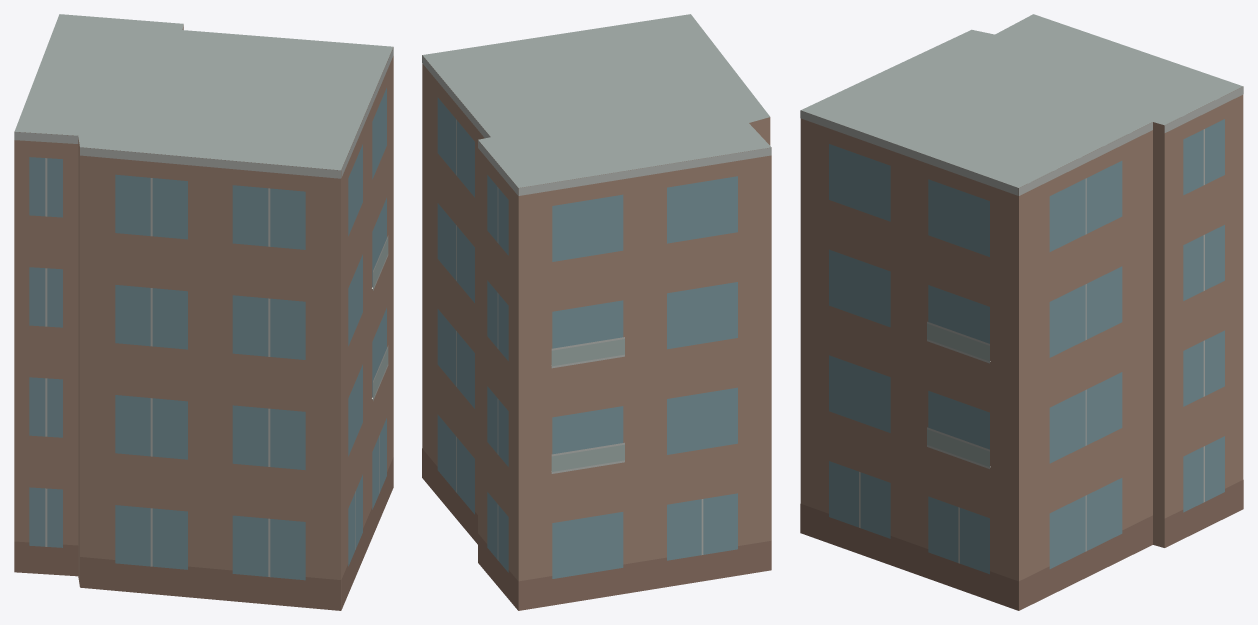
Rendered from survey-upis-32500005.glb.
The picture shows the model from 3 angles, left to right: view 1: azimuth 30°, elevation 25°; view 2: azimuth 150°, elevation 25°; view 3: azimuth 270°, elevation 25°; orthographic projection. The views are drawn at different scales.
Parts seen in each view (by area): view 1: survey-upis-32500005.tmp; view 2: survey-upis-32500005.tmp; view 3: survey-upis-32500005.tmp.
Boxes of the visible parts, left/top/right/bottom form: survey-upis-32500005.tmp: left=14, top=14, right=393, bottom=610; survey-upis-32500005.tmp: left=422, top=14, right=771, bottom=610; survey-upis-32500005.tmp: left=800, top=14, right=1243, bottom=610.
Bounding box in the file's own units: 11.31 × 12.8 × 12.16.
